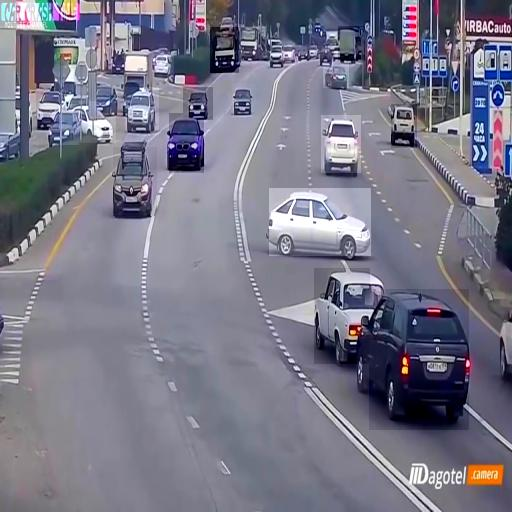小汽车: (369, 289, 469, 430), (270, 188, 372, 256), (314, 268, 370, 364), (114, 147, 158, 216), (321, 115, 361, 173), (169, 113, 204, 173), (79, 101, 116, 143), (125, 87, 159, 131), (210, 27, 239, 73), (50, 104, 79, 145), (392, 104, 418, 148), (36, 84, 59, 130), (183, 87, 213, 120), (338, 26, 365, 61), (232, 84, 256, 118), (323, 62, 349, 88), (268, 40, 288, 70), (152, 52, 174, 78)
